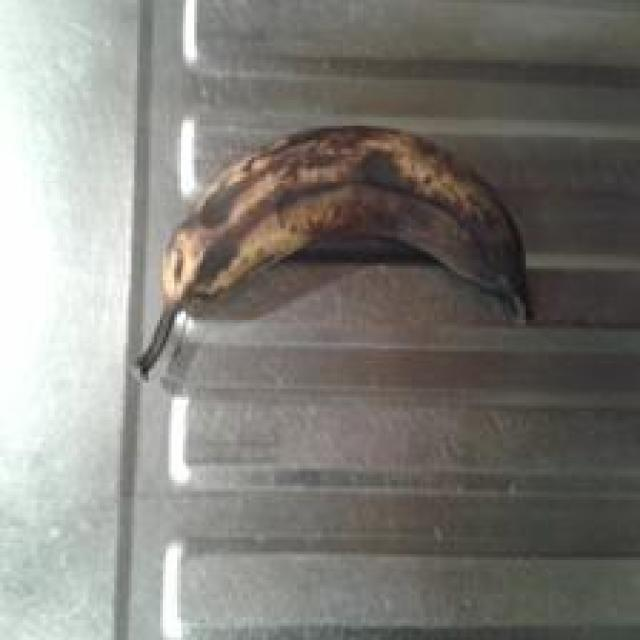Rotten_Banana: (149, 151, 573, 335)
